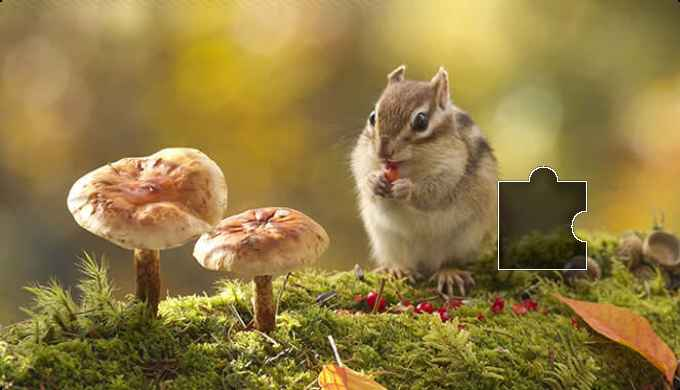gap: (498, 167, 589, 268)
